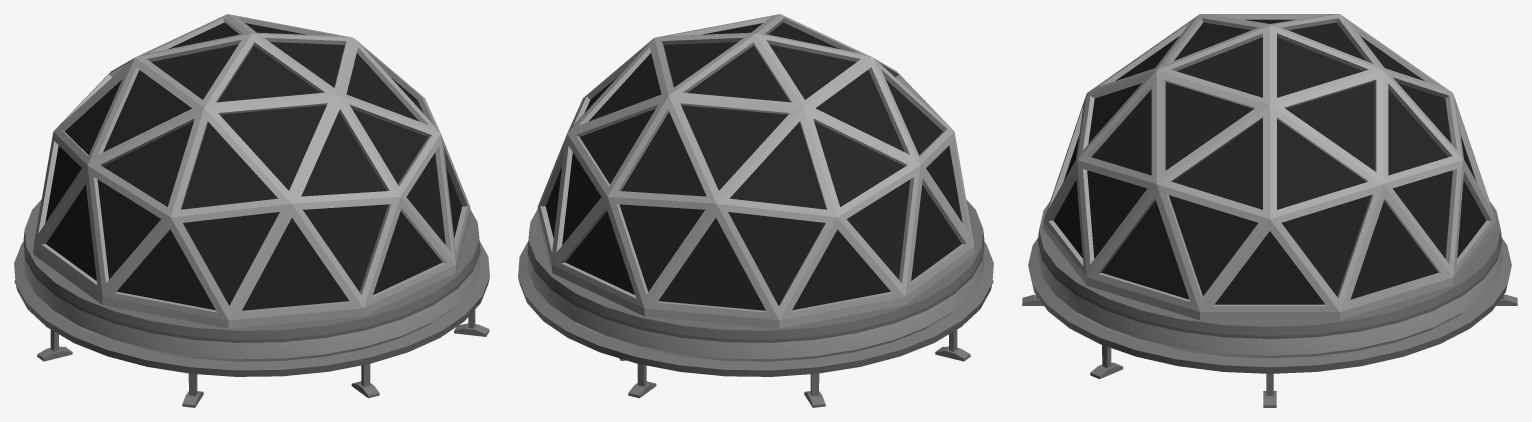
The model's file is radome_geodesic_dome.obj.
3 renders of one model, left to right at view 1: azimuth 30°, elevation 25°; view 2: azimuth 150°, elevation 25°; view 3: azimuth 270°, elevation 25°, orthographic.
Parts seen in each view (by area): view 1: GeodesicDome; view 2: GeodesicDome; view 3: GeodesicDome.
Part boxes in pixels (x1,y1,x2,y2): GeodesicDome: [14, 14, 489, 407]; GeodesicDome: [518, 14, 993, 407]; GeodesicDome: [1022, 14, 1517, 407].
Size of the model in its own units: 8.53 by 5.28 by 8.53.
Materials: 1 (1 with a texture image).
